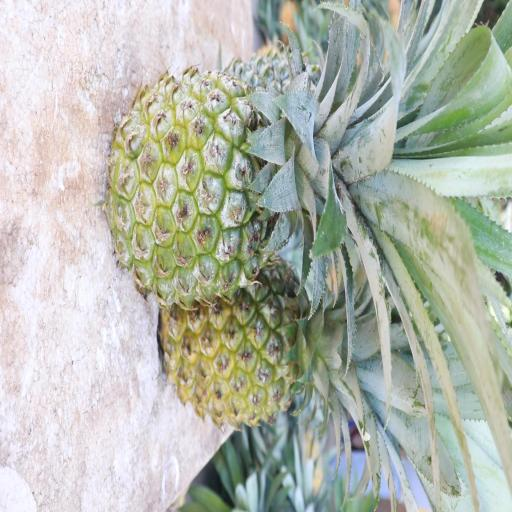------------------------------: (100, 58, 373, 317)
Pineapple - v8 v1: (157, 232, 392, 434)
